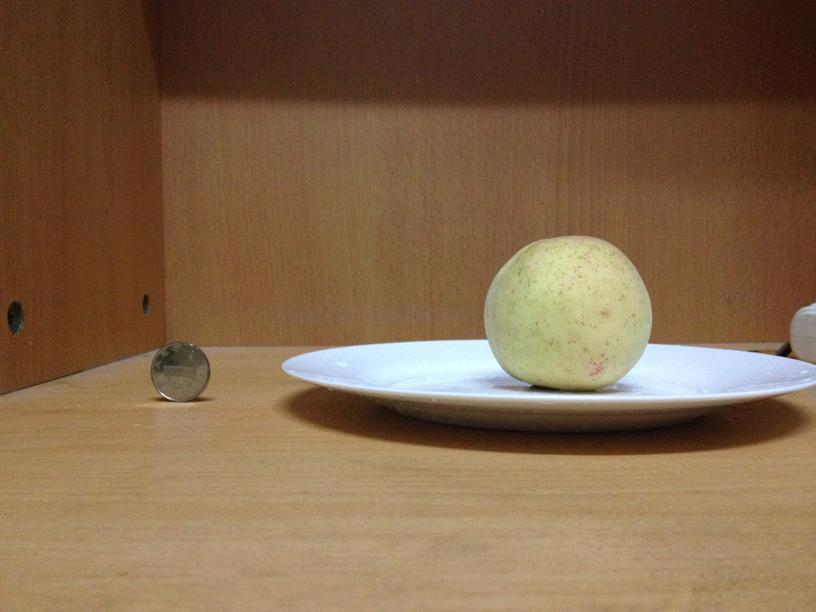coin: (147, 339, 211, 402)
peach: (483, 237, 654, 390)
